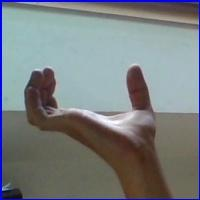B: (19, 57, 165, 173)
